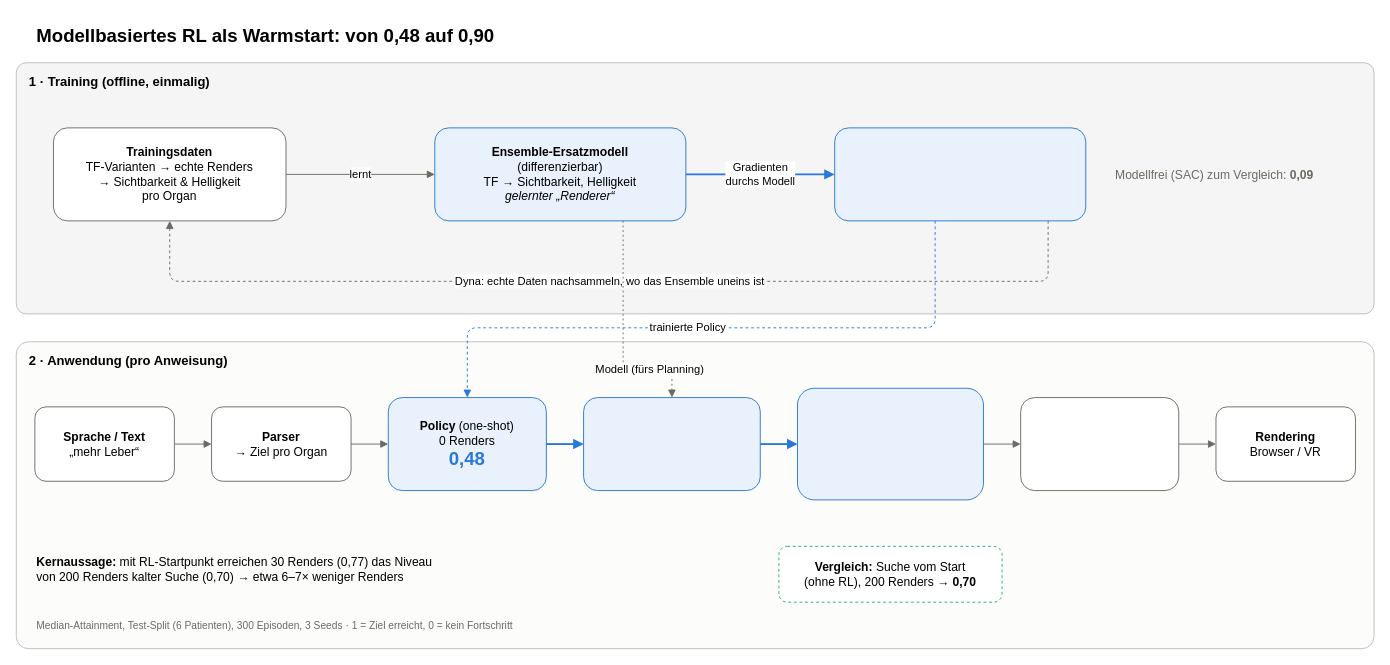
The diagram is 1390 pixels wide and 665 high, and some of its shapes have lost their labels. The centre of each missing label's shape, as x and y in pixels:
Keep Repair + Colour Guard keine Nebenwirkungen auf andere Organe: point 1099,444
Planning durchs Modell 0 Renders, ~0,2 s 0,64: point 671,444
Policy Anweisung + Startzustand → TF trainiert per Gradient durch das Modell: point 960,174
Suche (Hill-Climb) ab diesem Startpunkt 30 Renders → 0,77 200 Renders → 0,90: point 890,443
